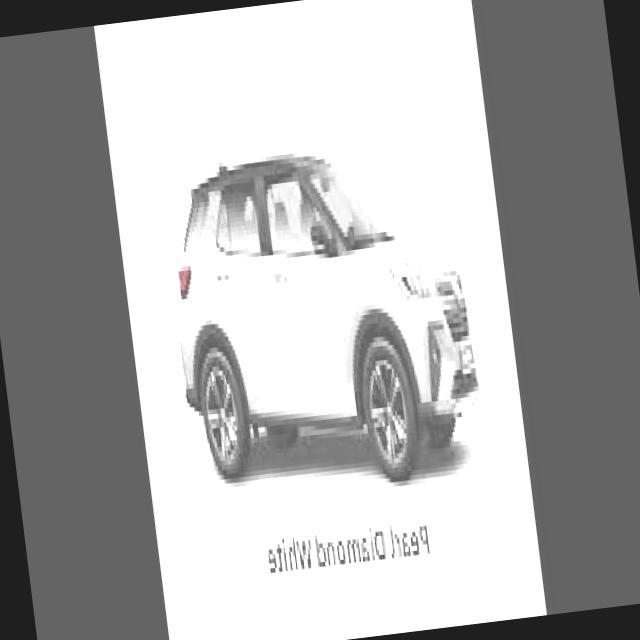PeroduaAtiva: (157, 131, 490, 505)
